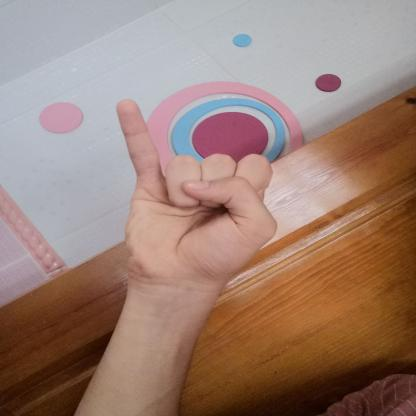MEEM: (87, 84, 298, 302)
